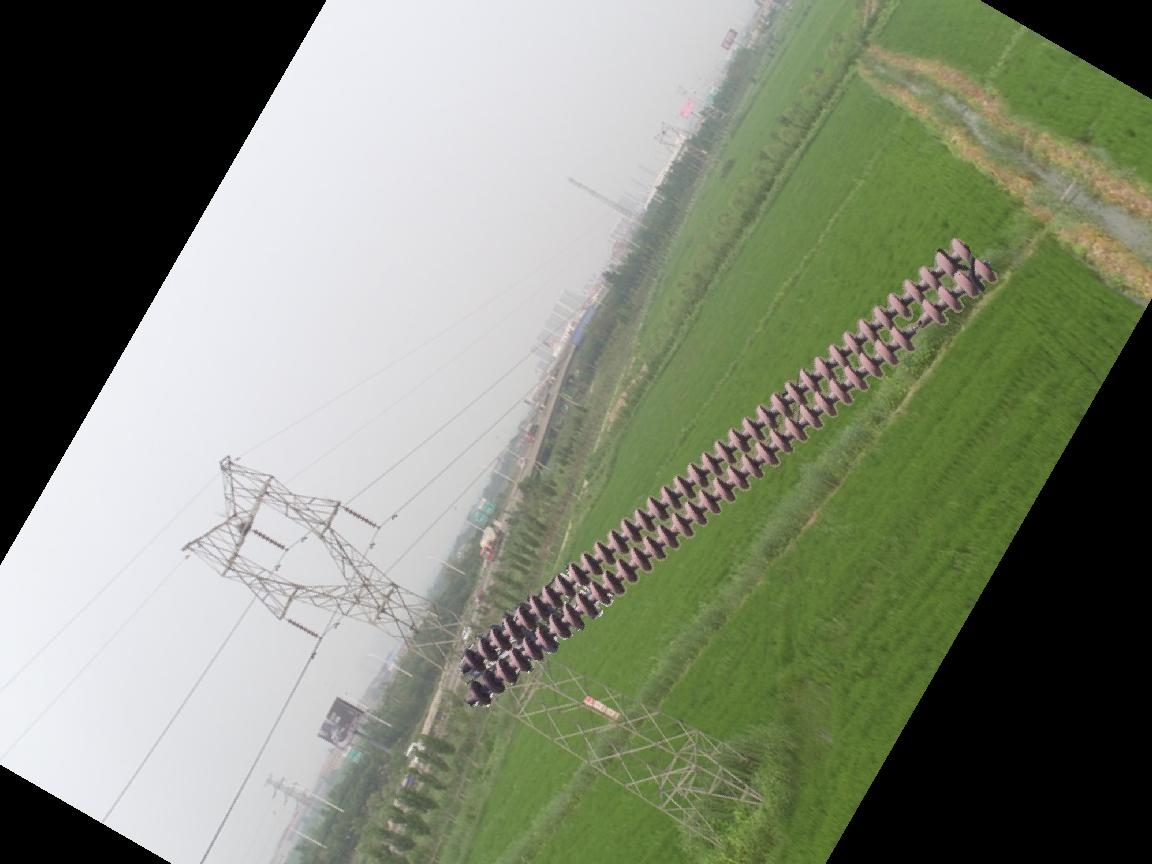insulator: (456, 226, 1000, 714), (247, 526, 288, 554), (339, 501, 378, 530), (282, 614, 321, 642)
insulator_stringdrop: (888, 298, 951, 352)
